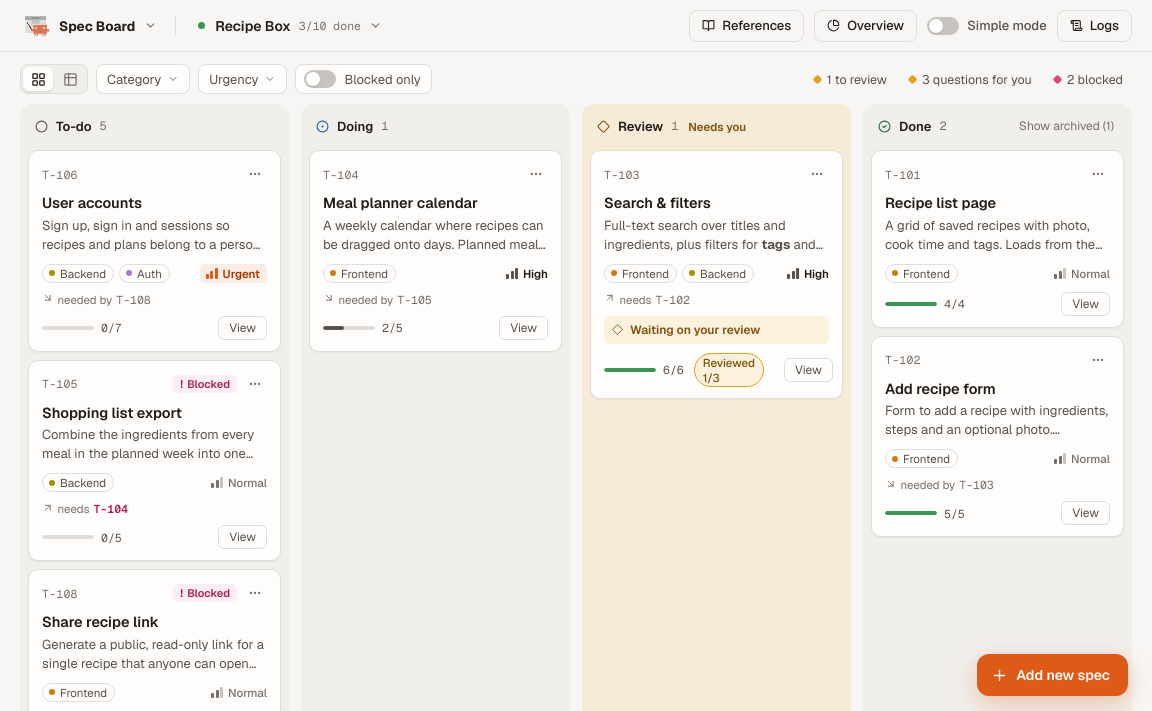
the actions start the right kind › Add & have Claude write it up: creates, then starts a write-up of the new spec
Click the button "Add new spec" at (1053, 675), box [977,654,1128,696]
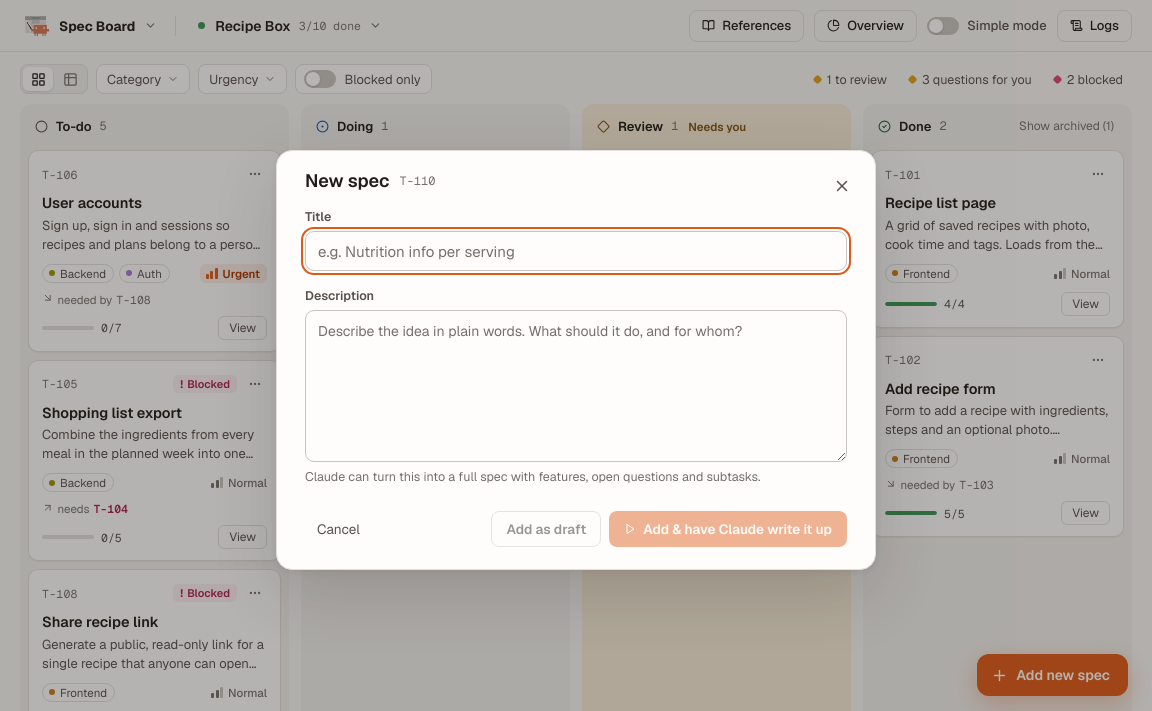
Type "New" into the field labelled "Title" at (576, 251), box [305,231,847,271]
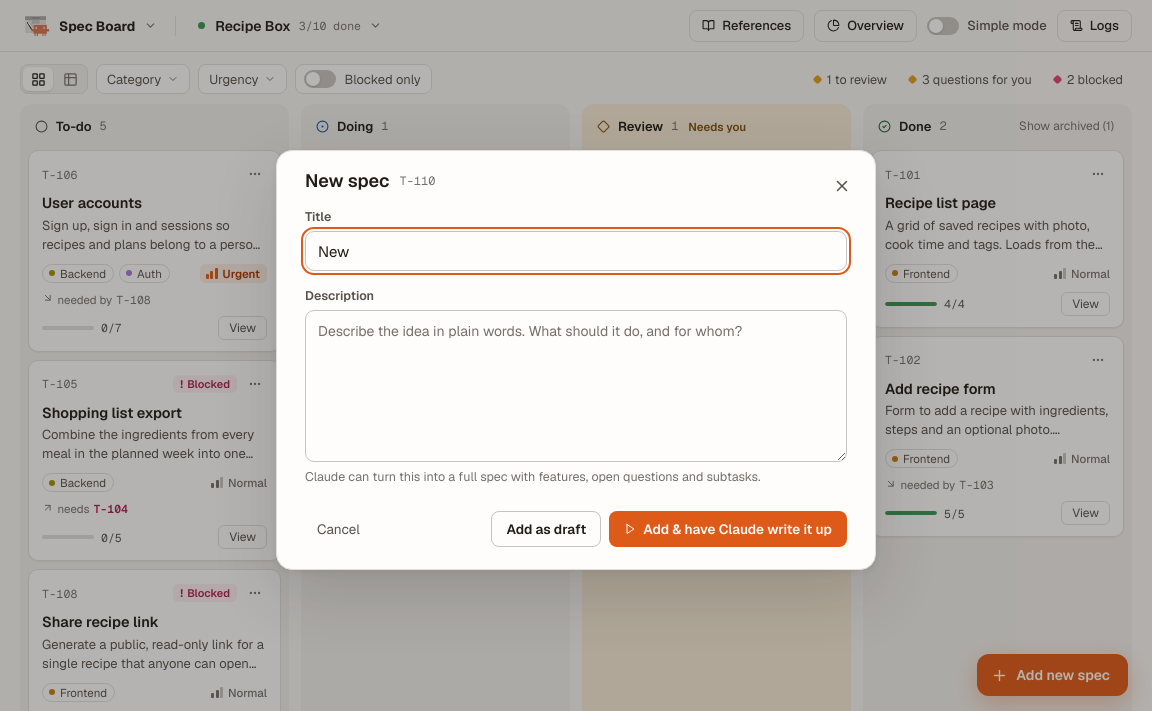
Click the button "Add & have Claude write it up" at (728, 529), box [609,511,847,547]
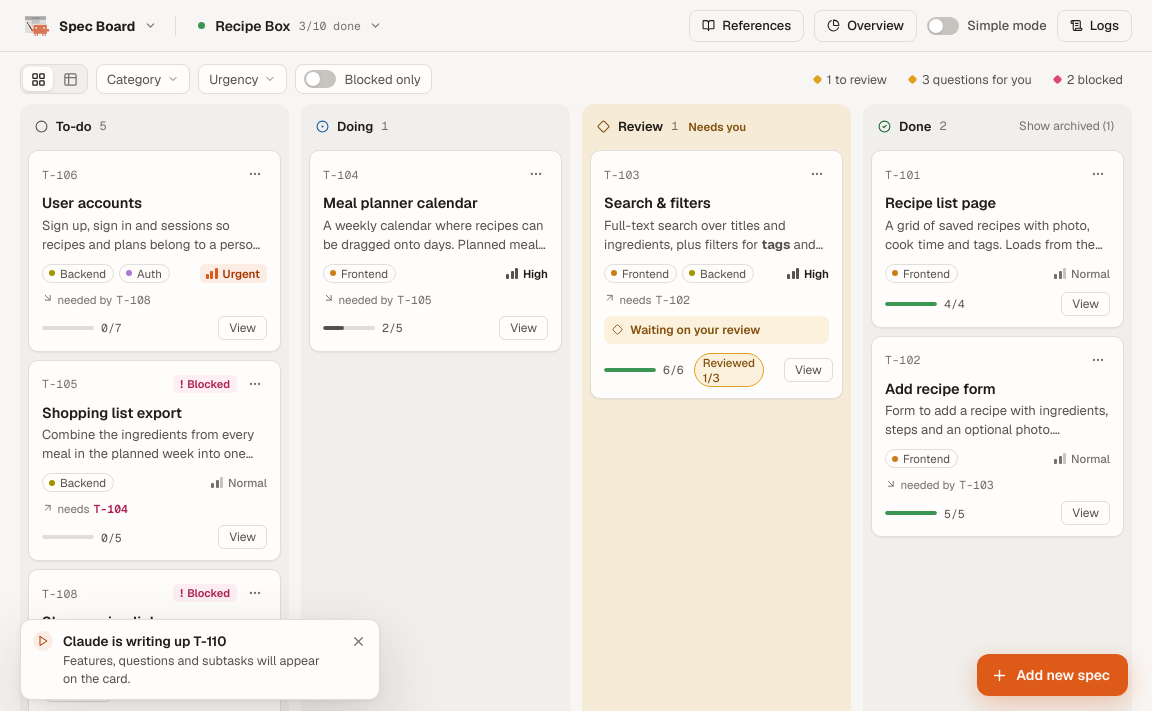
Expected: the text "Claude is writing up T-110" is shown once, [63,632,226,650]
